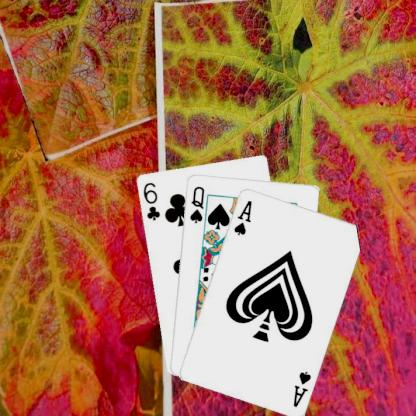6C: (140, 180, 161, 222)
AS: (290, 368, 312, 408), (231, 198, 253, 236)
QS: (187, 184, 205, 224)
